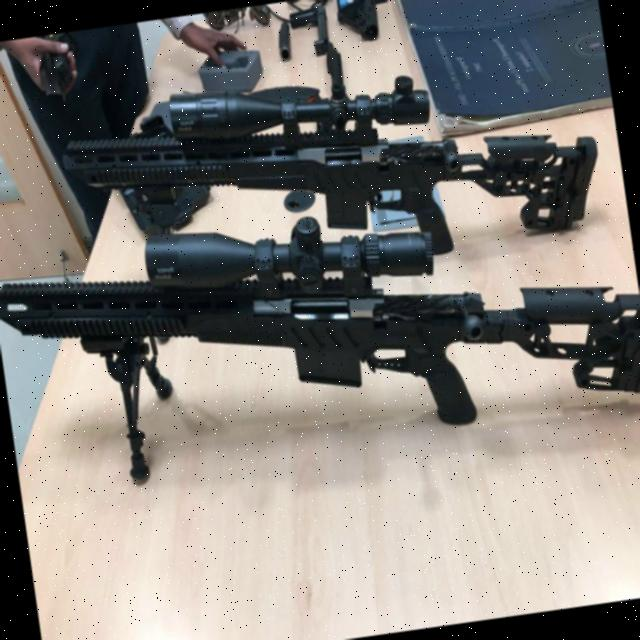Sniper: (0, 154, 640, 498), (77, 56, 606, 301)
